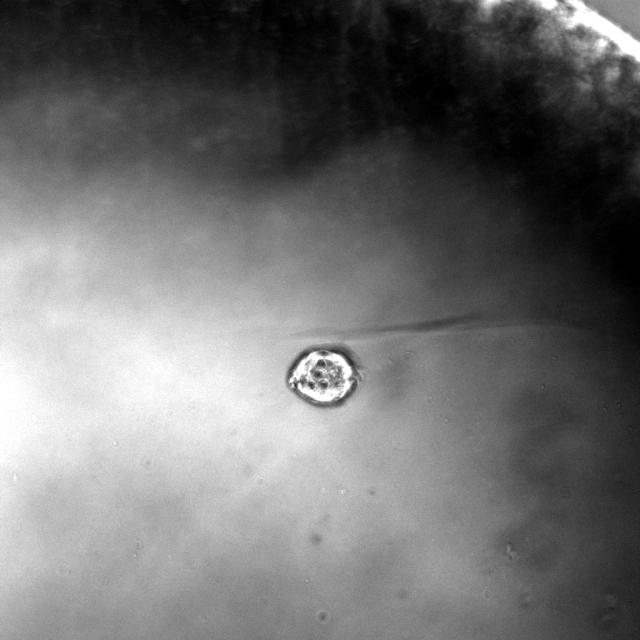organoid: (288, 348, 359, 405)
